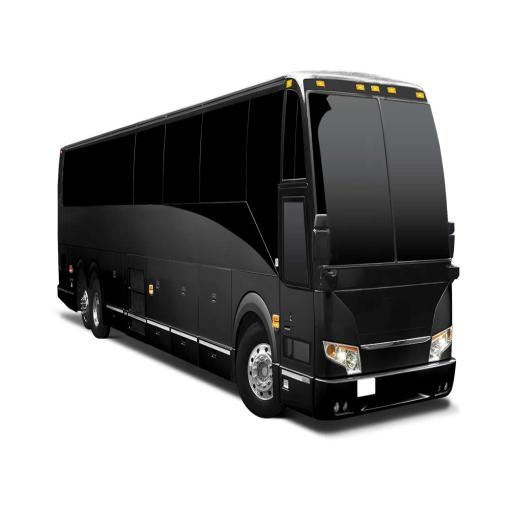bus: (57, 70, 457, 427)
